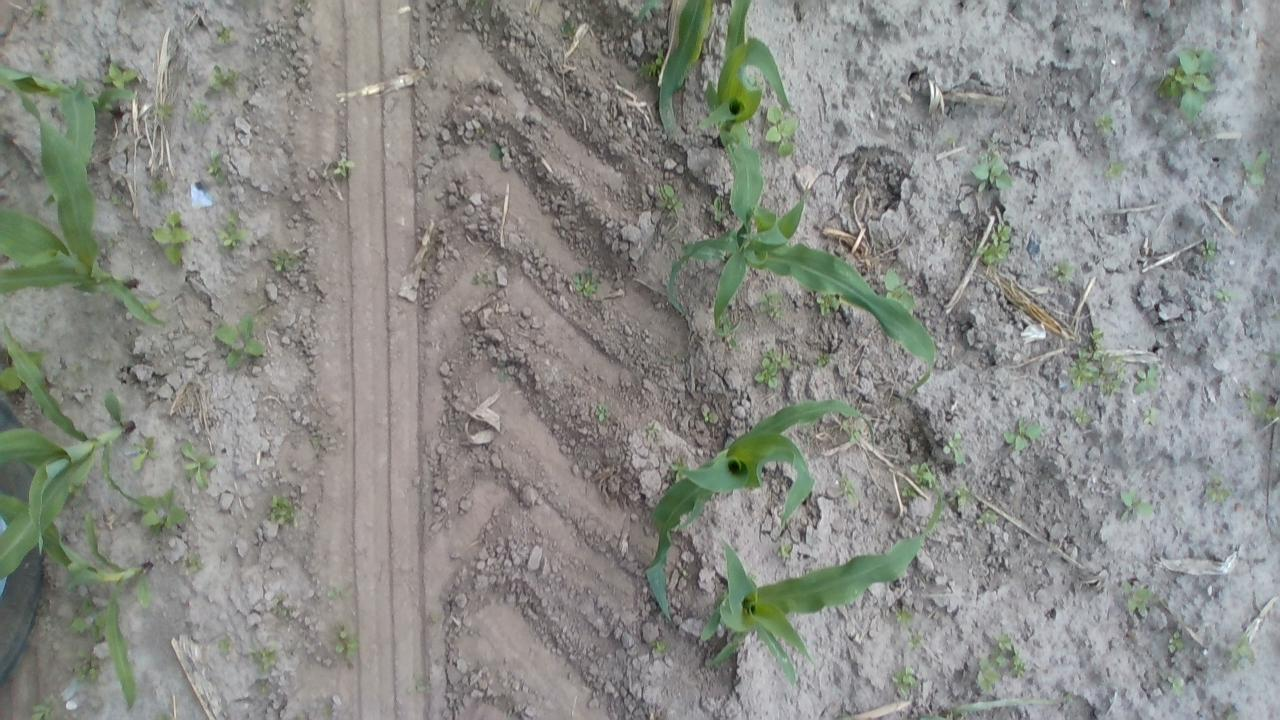Maize: (662, 196, 942, 394), (638, 400, 878, 628), (708, 488, 934, 680), (0, 73, 163, 333), (0, 316, 133, 580), (0, 490, 153, 714), (705, 0, 794, 340), (634, 0, 728, 139), (0, 61, 133, 115)
Weeds: (1157, 48, 1217, 120), (916, 696, 1052, 720), (212, 316, 262, 367), (137, 486, 191, 530), (151, 208, 191, 266), (971, 142, 1014, 190), (764, 104, 799, 158), (70, 593, 108, 642), (180, 440, 215, 490), (882, 268, 918, 313), (1096, 344, 1126, 396), (994, 632, 1026, 678), (1066, 346, 1099, 390), (976, 224, 1011, 262), (1120, 577, 1155, 614), (1002, 419, 1044, 449), (713, 308, 742, 350), (1224, 632, 1256, 670), (72, 650, 105, 682), (1119, 488, 1154, 518), (656, 182, 683, 218), (132, 435, 158, 472), (1130, 363, 1160, 395), (1242, 152, 1271, 185), (102, 62, 138, 88), (943, 431, 968, 467), (208, 64, 236, 96), (248, 644, 278, 672), (332, 631, 360, 661), (270, 494, 296, 526), (976, 657, 999, 693), (205, 148, 228, 182), (892, 664, 917, 695), (755, 358, 779, 390), (0, 359, 24, 391), (572, 270, 600, 296), (909, 462, 938, 487), (218, 223, 248, 247), (838, 473, 862, 502), (1204, 476, 1231, 501), (758, 290, 782, 318), (29, 697, 58, 720), (1244, 388, 1267, 416), (271, 247, 297, 271), (1048, 260, 1076, 282), (817, 292, 841, 316), (670, 456, 690, 482), (764, 348, 790, 368), (842, 418, 862, 443), (26, 348, 46, 373), (894, 604, 914, 628), (187, 101, 209, 122), (1166, 632, 1186, 655), (1213, 286, 1238, 304), (1104, 160, 1124, 182), (184, 552, 203, 575), (955, 482, 973, 506), (1200, 236, 1218, 260), (713, 196, 729, 221), (334, 158, 355, 177), (68, 478, 87, 499), (1069, 406, 1092, 422), (1087, 326, 1105, 346), (649, 51, 663, 76), (976, 509, 999, 524), (1140, 406, 1158, 425), (558, 21, 576, 40), (155, 103, 176, 119), (138, 297, 160, 312), (907, 630, 925, 648), (1168, 674, 1184, 694), (151, 179, 169, 196), (216, 25, 232, 44), (1263, 404, 1280, 421), (646, 422, 662, 440), (1096, 114, 1112, 132), (899, 486, 918, 500), (594, 404, 610, 420), (746, 74, 762, 89), (816, 352, 832, 366), (30, 0, 46, 14), (776, 544, 792, 557), (834, 710, 854, 720), (219, 637, 231, 653), (326, 586, 342, 598), (702, 410, 716, 423), (406, 686, 428, 694), (155, 712, 177, 720), (226, 210, 238, 224), (654, 640, 668, 652), (942, 134, 957, 144), (111, 193, 123, 205), (490, 146, 500, 160), (1265, 351, 1280, 360), (748, 570, 759, 582), (1063, 694, 1075, 704), (1219, 713, 1235, 720), (472, 273, 482, 284), (106, 238, 115, 250), (682, 569, 692, 579), (43, 50, 52, 60), (72, 362, 80, 373), (280, 610, 288, 618)
